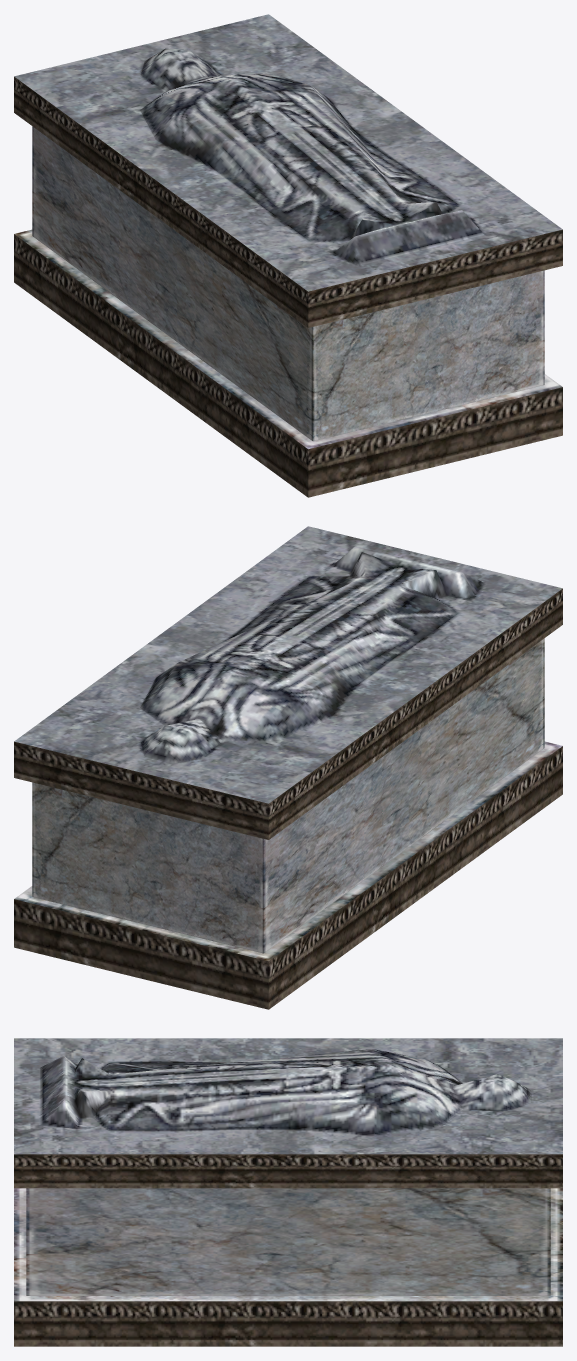
Rendered from d_sark1.glb.
The picture shows the model from 3 angles, top to bottom: view 1: azimuth 30°, elevation 25°; view 2: azimuth 150°, elevation 25°; view 3: azimuth 270°, elevation 25°; orthographic projection. The views are drawn at different scales.
Parts seen in each view (by area): view 1: d_sark1-col; view 2: d_sark1-col; view 3: d_sark1-col.
Part boxes in pixels (bbox=[...]): d_sark1-col: bbox=[14, 14, 562, 497]; d_sark1-col: bbox=[14, 526, 562, 1009]; d_sark1-col: bbox=[14, 1038, 562, 1346].
Bounding box in the file's own units: 1.1 × 0.9821 × 2.2.
2 materials, 2 textured.
